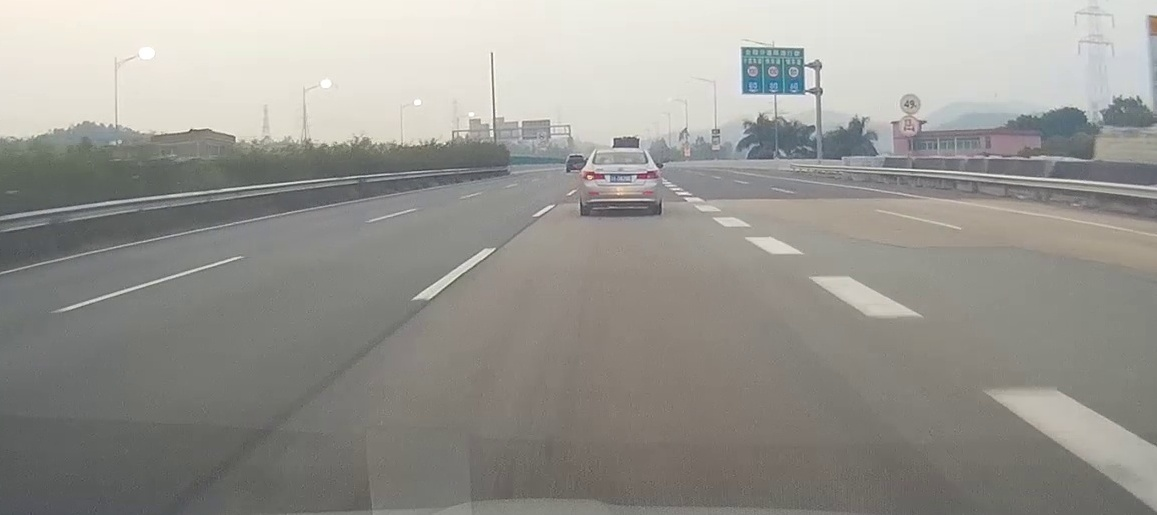L_light: (583, 171, 605, 180)
R_light: (636, 170, 659, 179)
T_light: (616, 151, 626, 154)
day-left: (580, 148, 661, 216)
